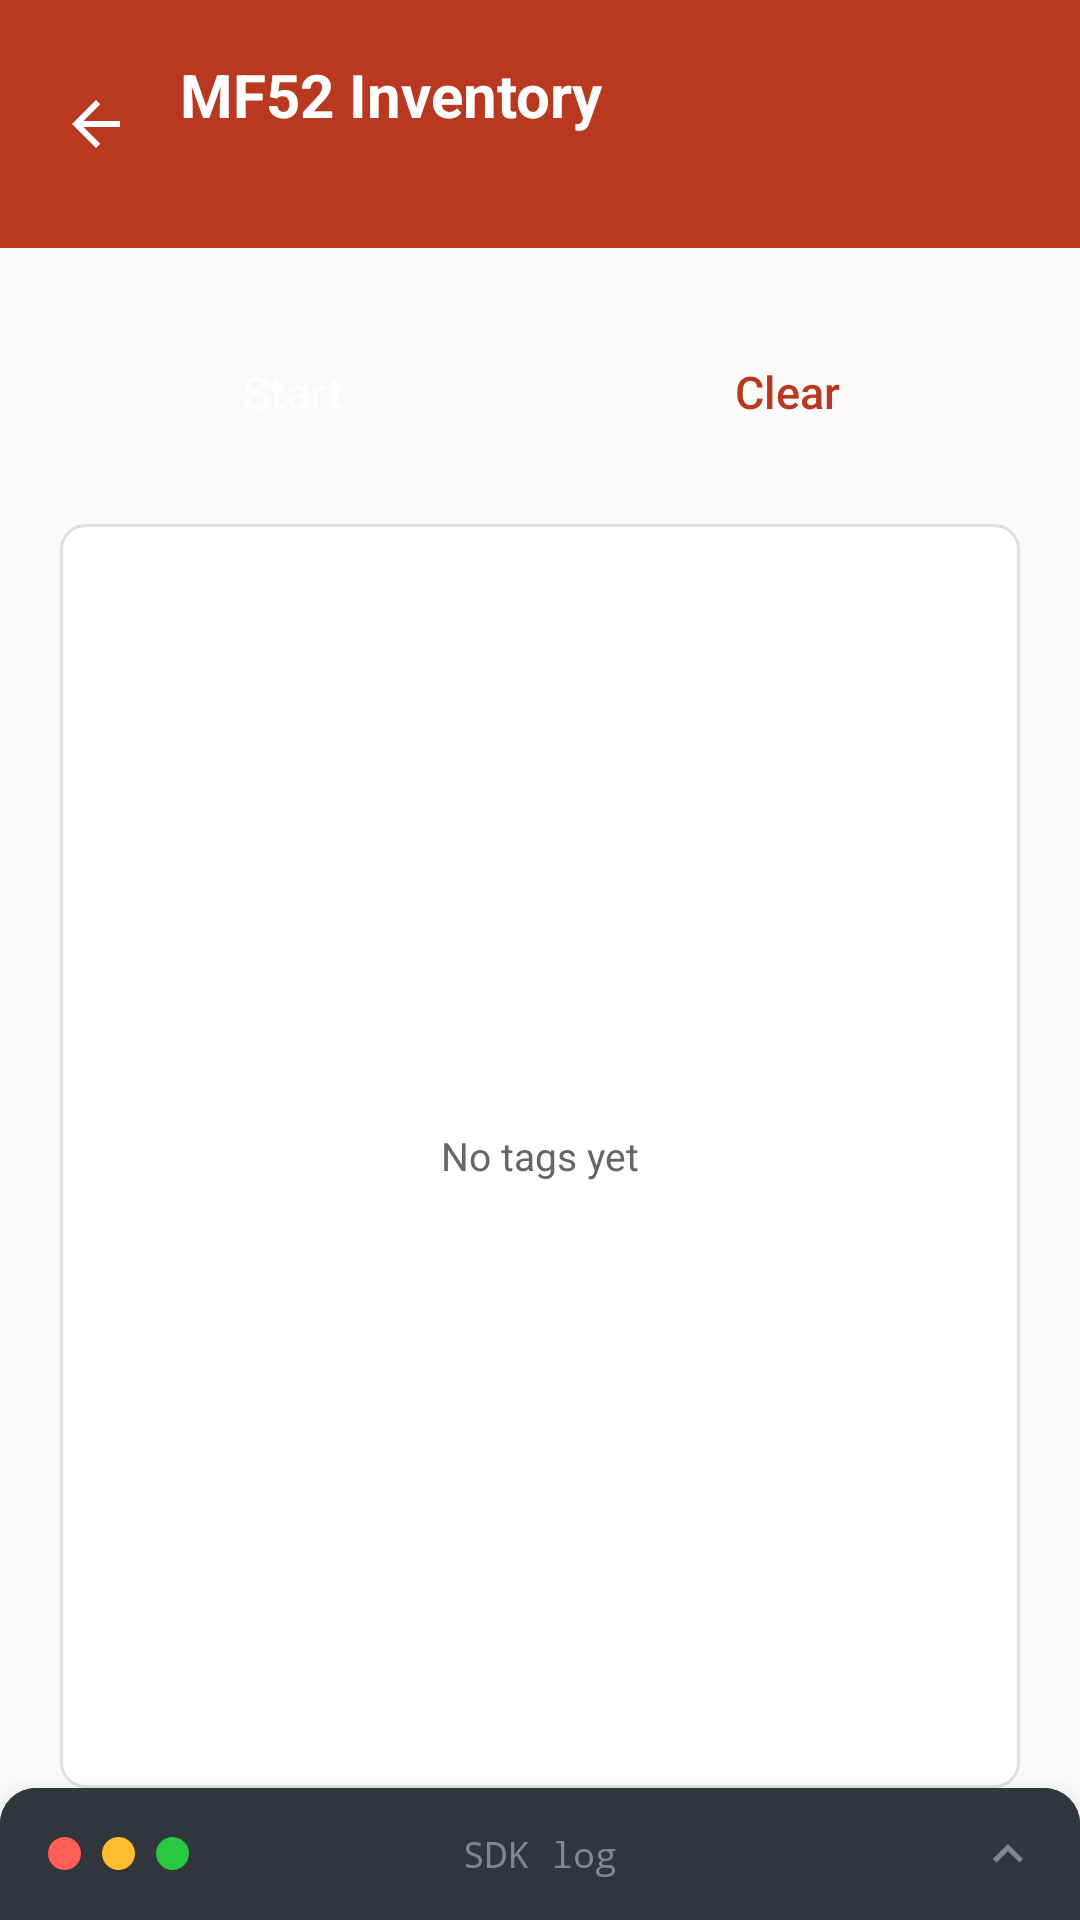

Screen size 1080 × 1920. Icon name, then its box in pixels as [left=x1, top=y1, right=x2, bottom=y2]:
Back: [left=72, top=100, right=120, bottom=148]
